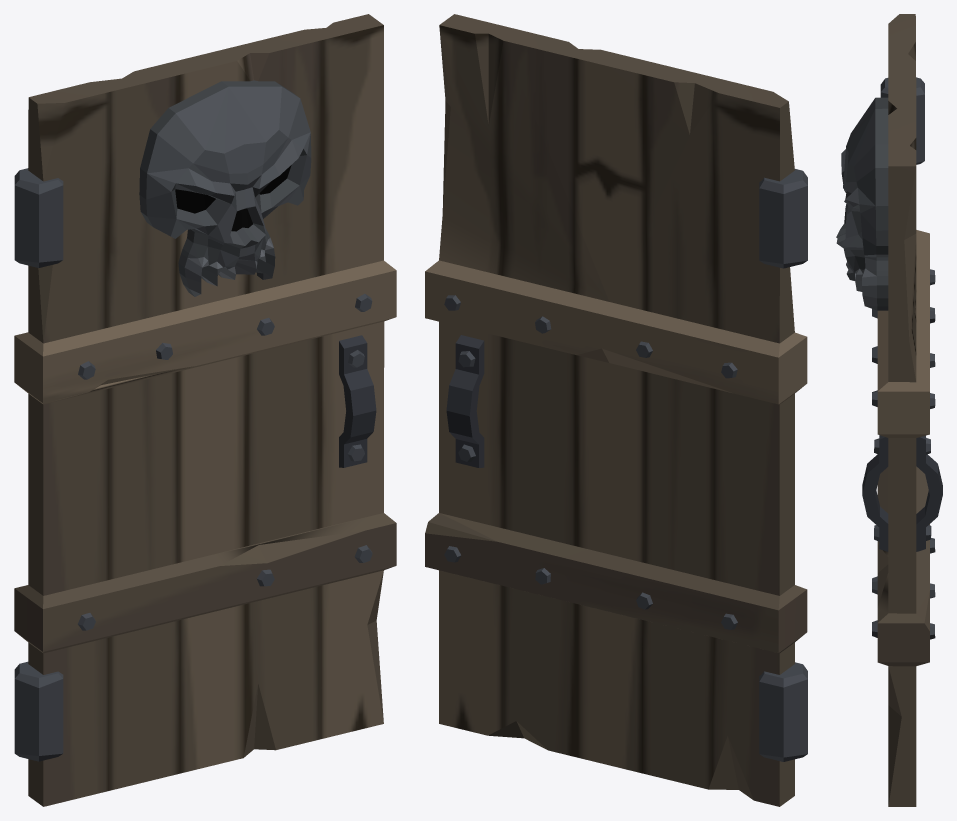
File: SM_Bld_Door_01.fbx
The picture shows the model from 3 angles, left to right: view 1: azimuth 30°, elevation 25°; view 2: azimuth 150°, elevation 25°; view 3: azimuth 270°, elevation 25°; orthographic projection. The views are drawn at different scales.
Parts seen in each view (by area): view 1: SM_Bld_Door_01; view 2: SM_Bld_Door_01; view 3: SM_Bld_Door_01.
Boxes of the visible parts, bbox=[...] form: SM_Bld_Door_01: bbox=[14, 14, 396, 806]; SM_Bld_Door_01: bbox=[425, 14, 807, 806]; SM_Bld_Door_01: bbox=[836, 14, 942, 806].
Size of the model in its own units: 108 by 197 by 29.7.
